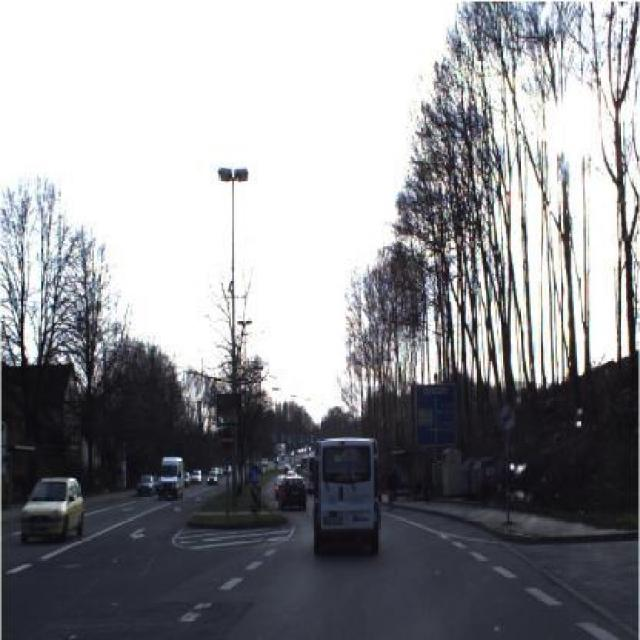traffic_sign: (220, 427, 234, 456)
